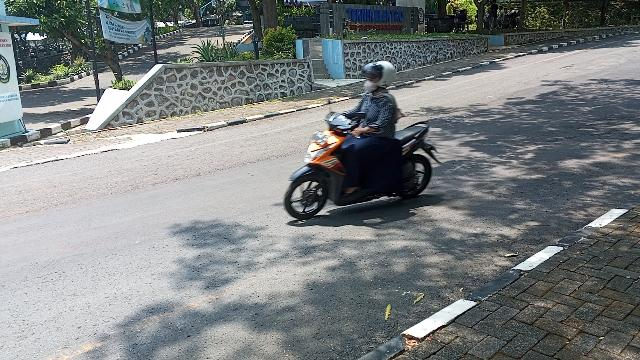helm: (364, 62, 395, 91)
motor: (286, 115, 443, 219)
